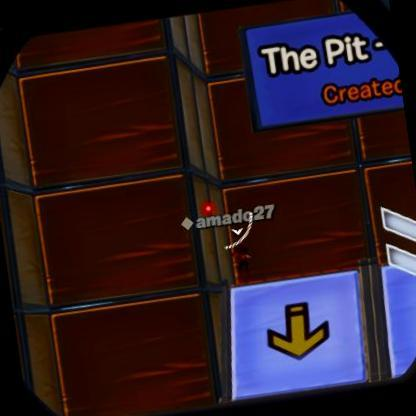person: (226, 240, 253, 280)
